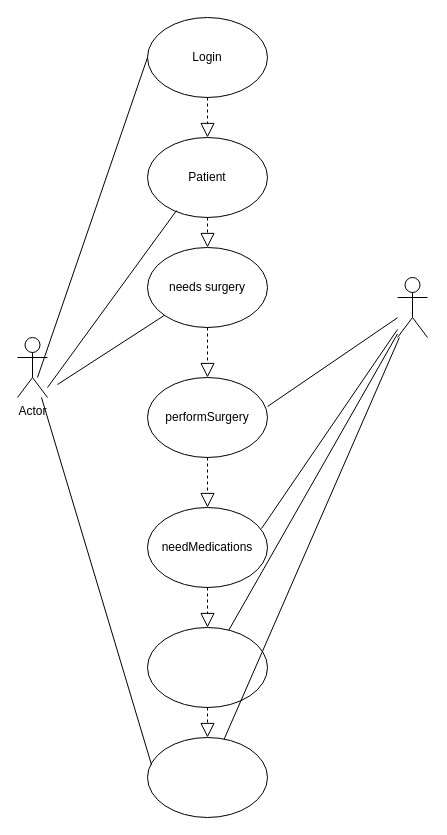
Some shapes in this 447 by 835 pixel diagram are drawn without their labels. The shapes that lost their labels are listed below. From the top down, each one's centre as x and y in pixels, then its label:
At pixel 412 307: "Doctor".
At pixel 207 667: "prescribeMedication".
At pixel 207 777: "dischargePatient".
